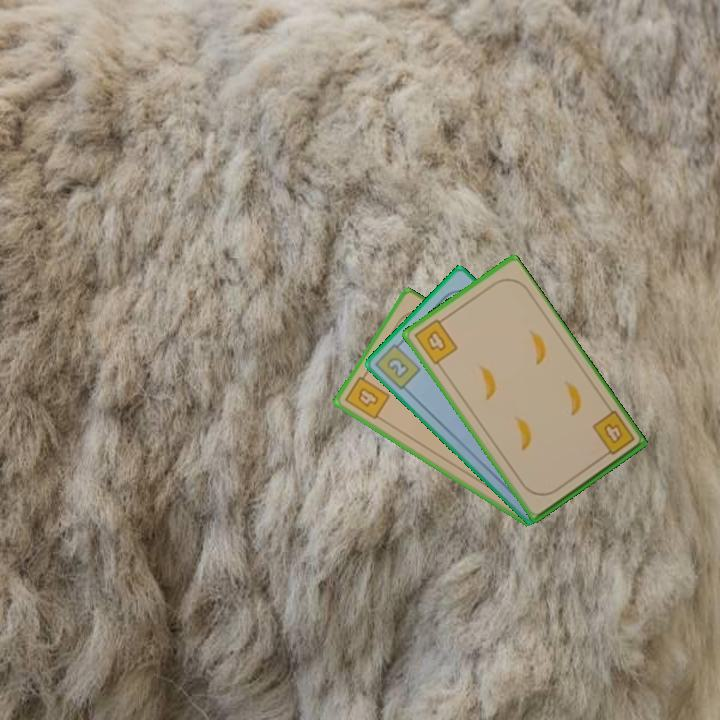2b: (372, 336, 423, 393)
4b: (341, 368, 393, 422), (410, 313, 461, 368), (588, 407, 637, 461)
